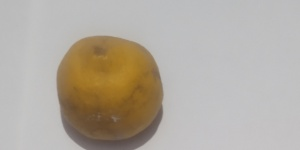BAD: (53, 33, 168, 146)
